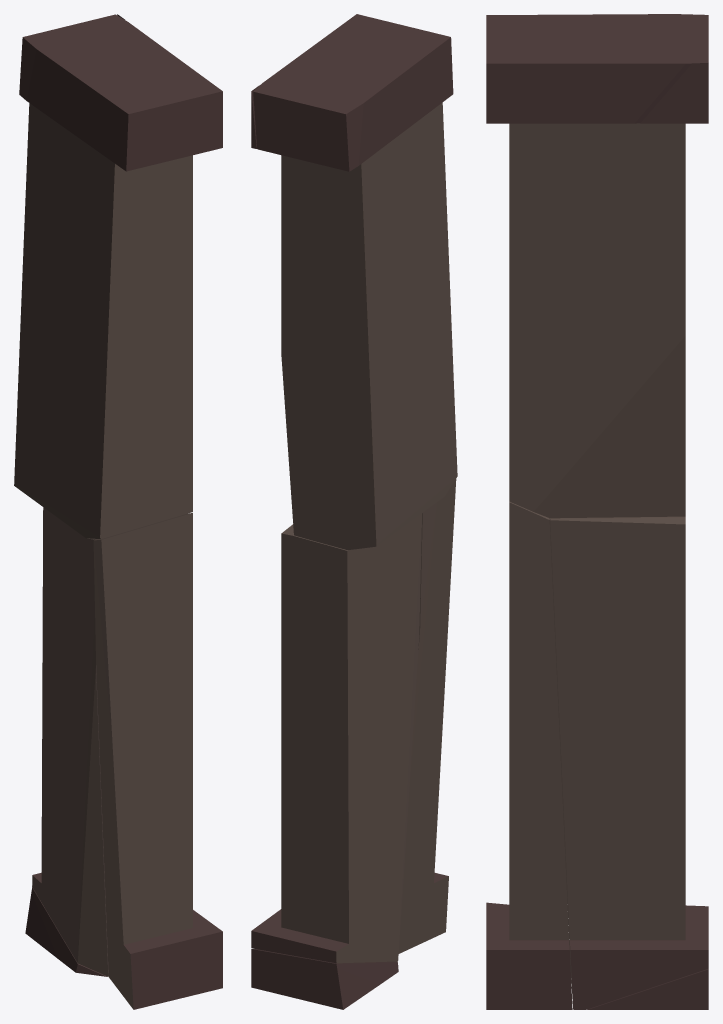
File: Pillar1.fbx
3 renders of one model, left to right at view 1: azimuth 30°, elevation 25°; view 2: azimuth 150°, elevation 25°; view 3: azimuth 270°, elevation 25°, orthographic. The views are drawn at different scales.
Visible parts, largest first — view 1: Pillar1; view 2: Pillar1; view 3: Pillar1.
Boxes of the visible parts, box(x1,y1,x2,y2) form: Pillar1: box(14, 14, 222, 1009); Pillar1: box(251, 14, 457, 1009); Pillar1: box(486, 14, 708, 1009).
Bounding box in the file's own units: 78.73 × 591 × 126.
